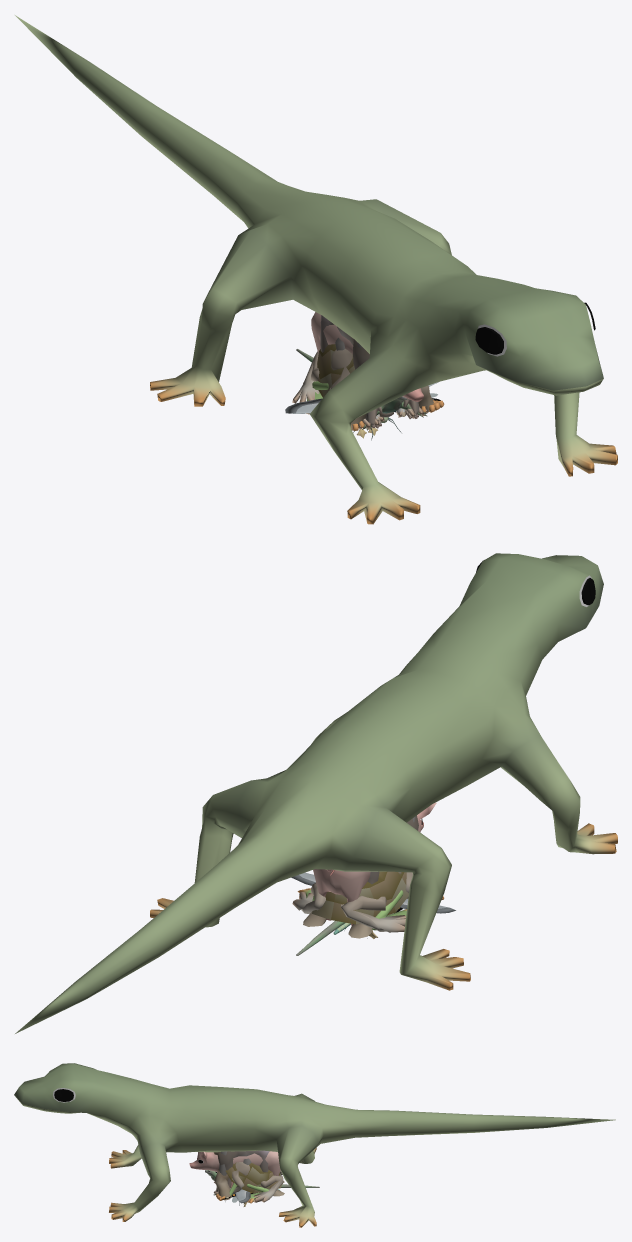
File: island-animals.glb
3 renders of one model, top to bottom at view 1: azimuth 30°, elevation 25°; view 2: azimuth 150°, elevation 25°; view 3: azimuth 270°, elevation 25°, orthographic. The views are drawn at different scales.
Parts seen in each view (by area): view 1: base (×4), Toad; view 2: base (×3), Toad; view 3: base (×4), Toad, RedEyedTreeFrog.
Part boxes in pixels (box(x1,y1,x2,y2)): base (×4): box(15, 15, 617, 524); Toad: box(292, 348, 428, 429); base (×3): box(15, 553, 617, 1033); Toad: box(292, 872, 412, 932); base (×4): box(14, 1063, 615, 1227); Toad: box(215, 1162, 283, 1202); RedEyedTreeFrog: box(216, 1183, 268, 1203).
Bounding box in the file's own units: 2.79 × 2.18 × 8.87.
